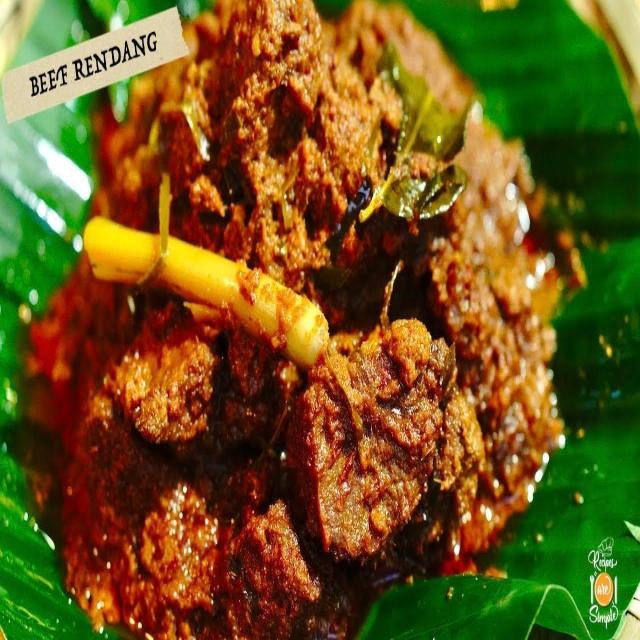Rendang: (17, 0, 591, 640)
